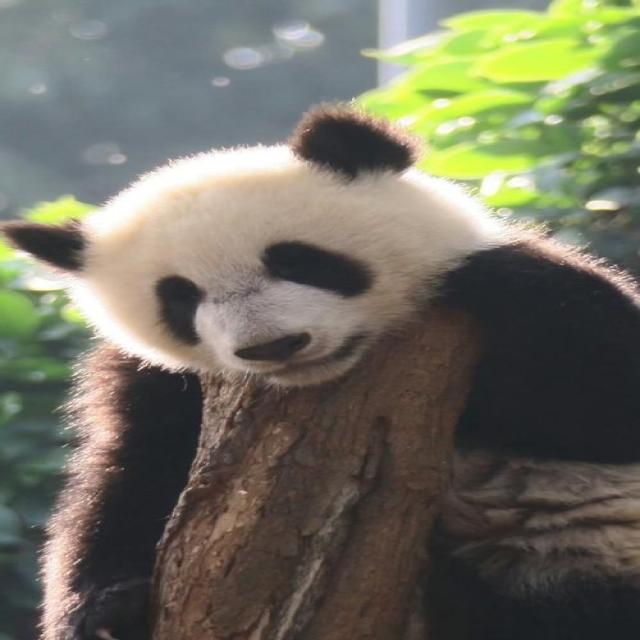panda: (2, 93, 640, 640)
